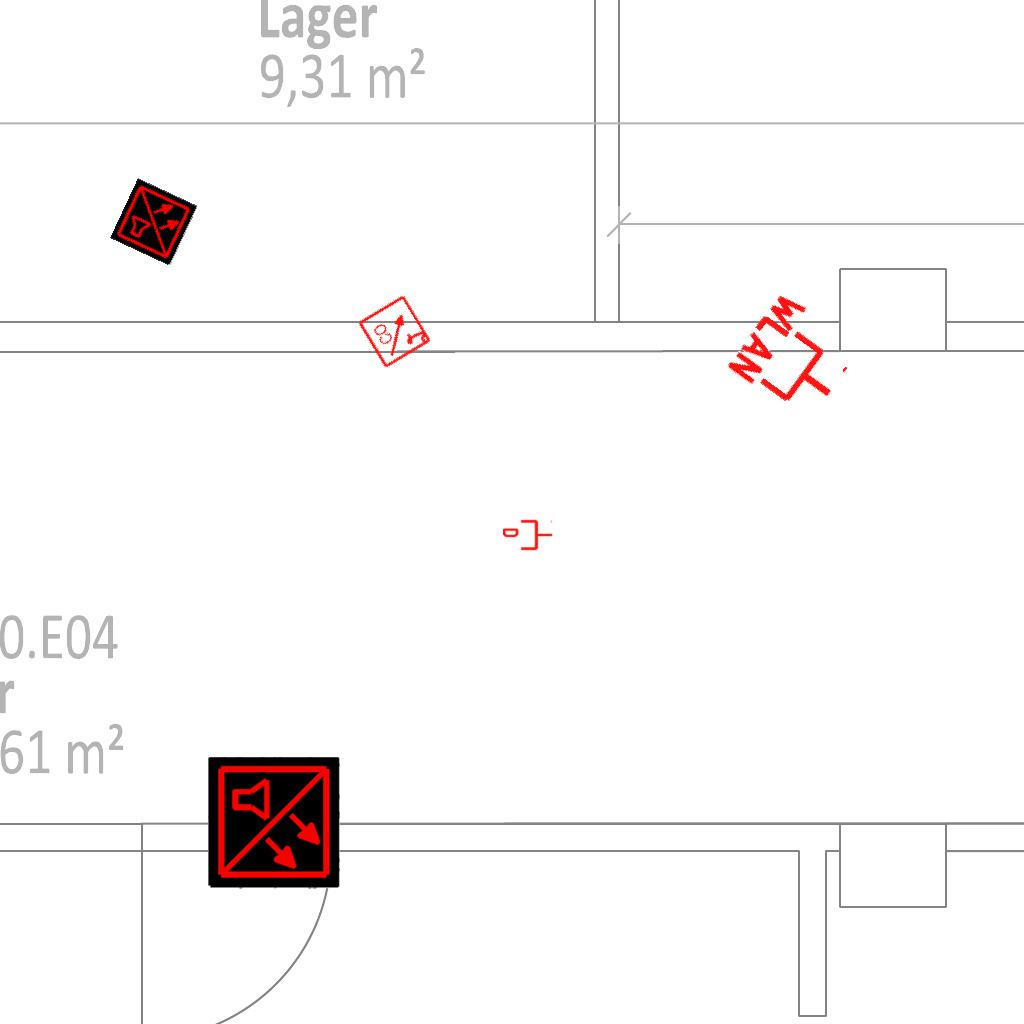Datenanschluss_einfach: (503, 518, 553, 552)
OKW_Multisensormelder_(Kombination_optischer_Rauch-Kahlenmonoxid_Waerme-Melder): (208, 757, 340, 889), (110, 178, 198, 266)
ROA_Rauchmelder_optisch_mit_Signalgeber_(Sockelsirene): (356, 292, 434, 370)
WLAN: (722, 285, 869, 431)
